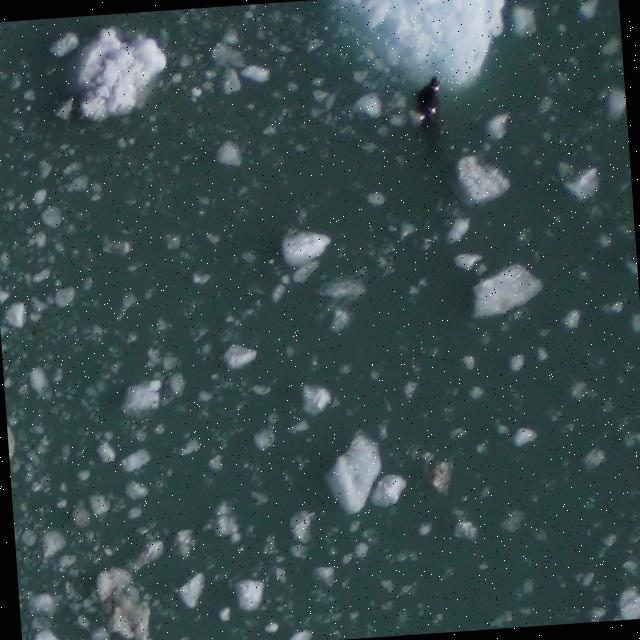seal: (406, 69, 451, 163)
